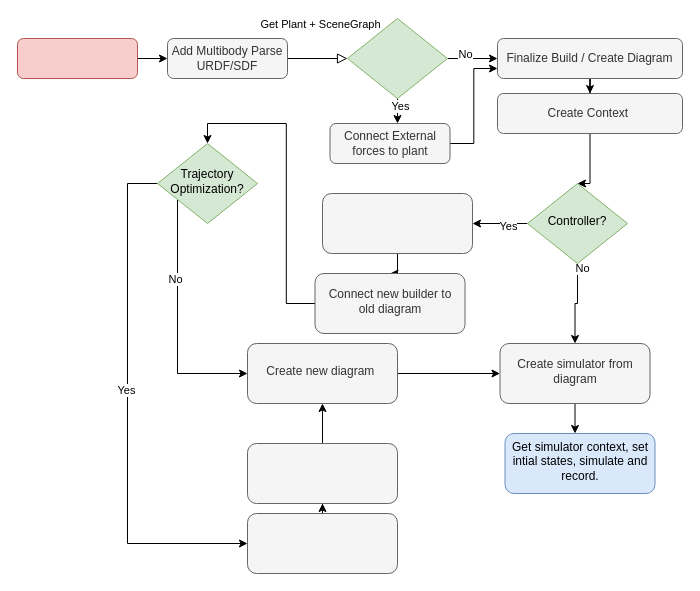
The diagram is 700 pixels wide and 591 high, and some of its shapes have lost their labels. The shapes that lost their labels are listed below. From the top down, each one's centre as x and y in pixels, then its label:
At point 77,58: "Intialize Builder".
At point 397,58: "External Forces?".
At point 397,223: "Set states with context, add controller system with Q, R to new builder".
At point 322,473: "Input traj to controller (perhaps plot traj too)".
At point 322,543: "Create traj opt function, input plant states and get x, u traj".
